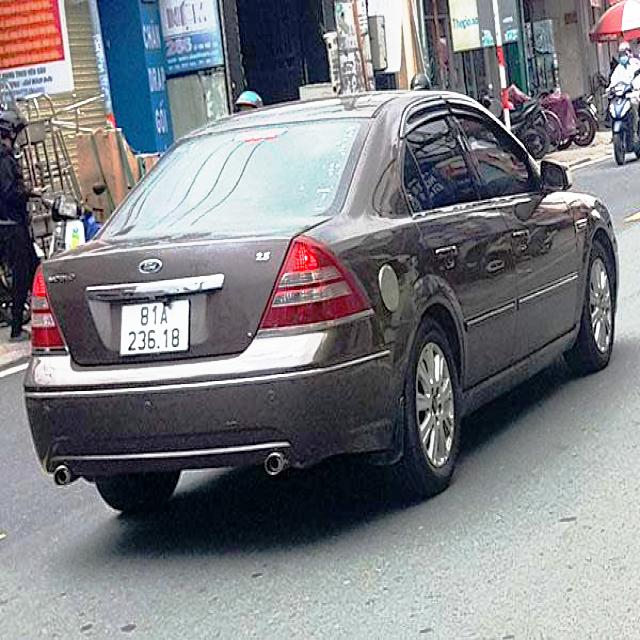license_plate: (119, 298, 192, 359)
